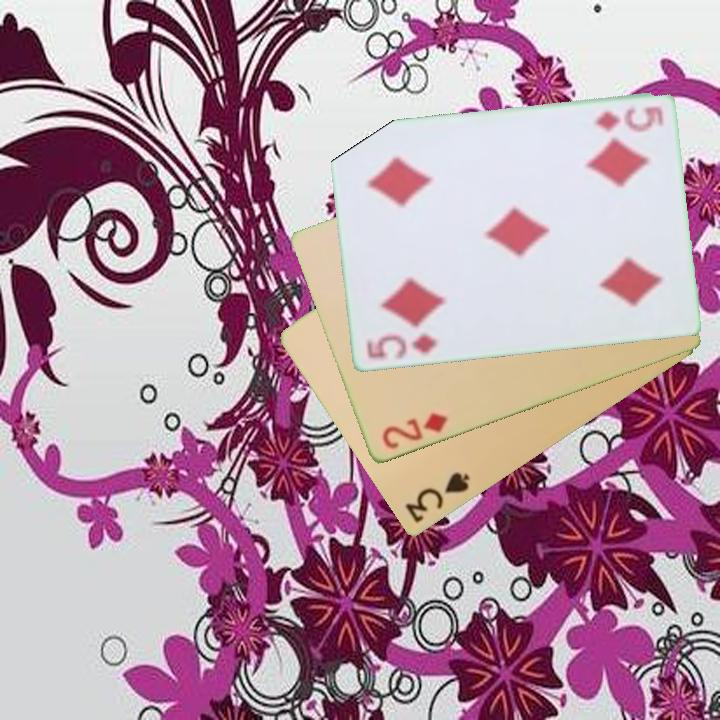2d: (378, 409, 450, 453)
3s: (401, 468, 473, 527)
5d: (588, 102, 666, 135), (362, 331, 440, 362)
